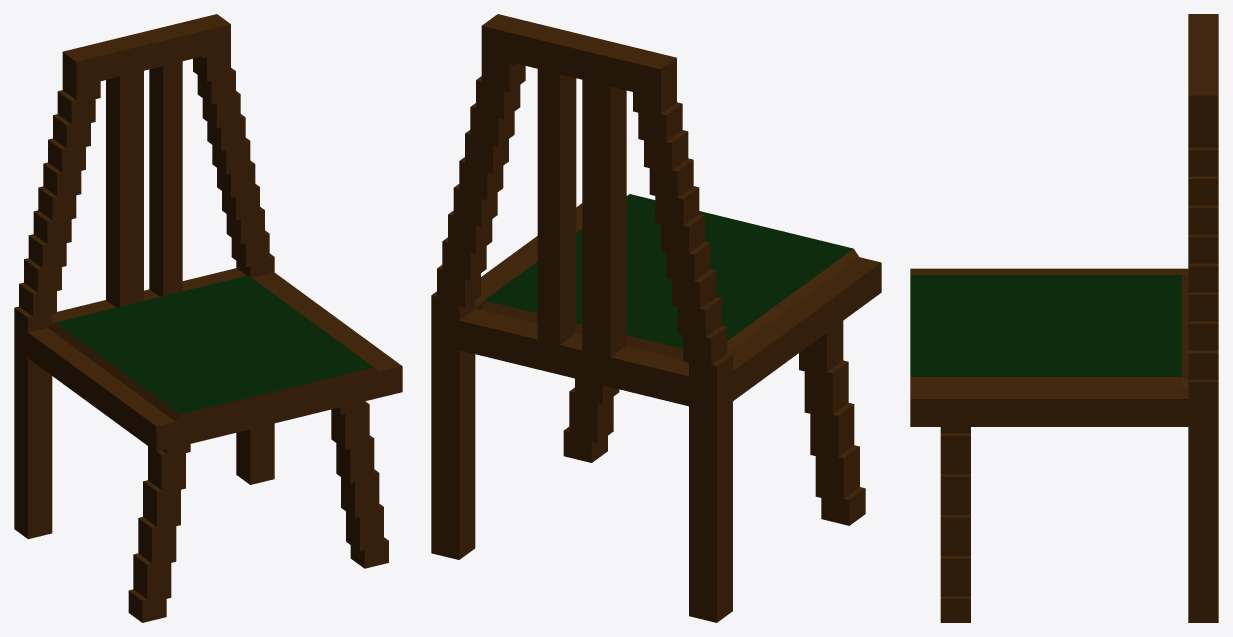
File: silla.fbx
The picture shows the model from 3 angles, left to right: view 1: azimuth 30°, elevation 25°; view 2: azimuth 150°, elevation 25°; view 3: azimuth 270°, elevation 25°; orthographic projection. The views are drawn at different scales.
Visible parts, largest first — view 1: Silla_low; view 2: Silla_low; view 3: Silla_low.
Part boxes in pixels (x1,y1,x2,y2): Silla_low: [14, 14, 402, 622]; Silla_low: [431, 14, 881, 622]; Silla_low: [910, 14, 1218, 622].
Size of the model in its own units: 99.46 by 180 by 99.46.
